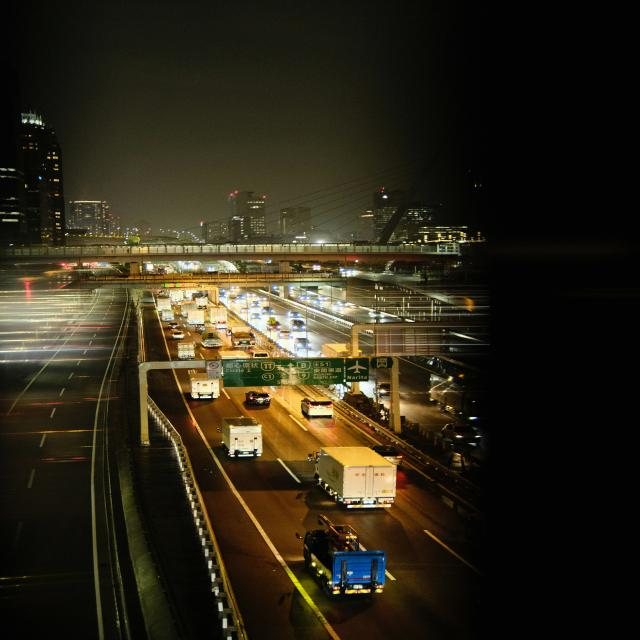Car: (441, 423, 481, 445), (465, 513, 486, 546), (370, 446, 402, 465), (301, 398, 333, 417), (246, 391, 270, 405), (202, 333, 223, 348), (294, 338, 311, 349), (377, 383, 390, 395), (291, 320, 305, 330), (194, 324, 207, 334), (251, 351, 269, 358), (278, 330, 293, 338), (267, 322, 281, 330), (215, 320, 227, 329), (172, 330, 184, 339), (287, 311, 302, 317), (369, 311, 384, 317), (249, 300, 260, 308), (167, 323, 179, 329), (332, 305, 343, 311), (229, 292, 236, 301), (250, 313, 260, 319), (261, 308, 269, 315), (237, 308, 248, 313), (298, 296, 311, 300), (269, 308, 275, 316), (226, 328, 232, 336), (319, 296, 328, 301), (236, 295, 245, 300), (219, 293, 226, 299), (248, 293, 257, 297), (220, 288, 227, 293), (259, 297, 267, 301), (156, 290, 161, 295)
Trucks: (304, 515, 385, 595), (309, 447, 396, 508), (221, 417, 262, 456), (188, 370, 219, 398), (178, 342, 195, 359), (161, 309, 174, 321)
